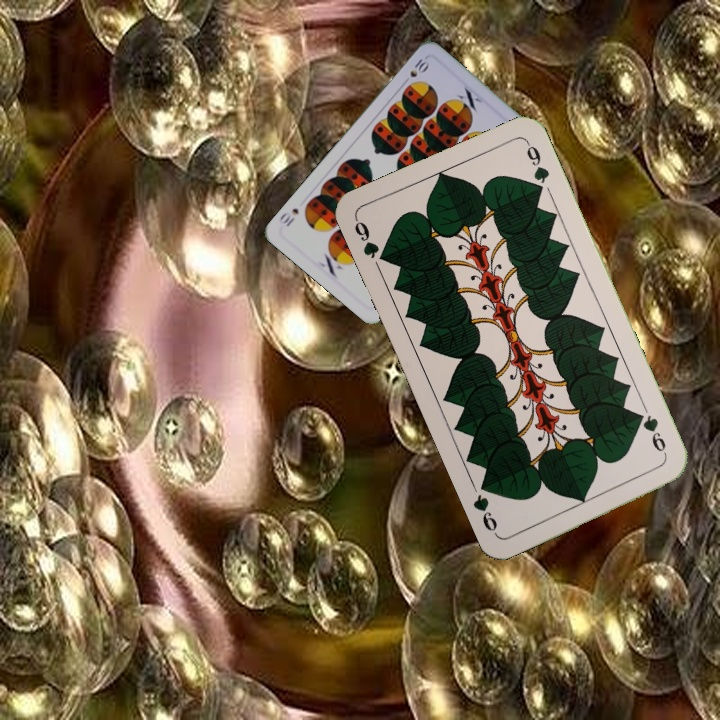G9: (350, 215, 392, 266), (632, 408, 670, 461)
S10: (406, 54, 431, 80)
